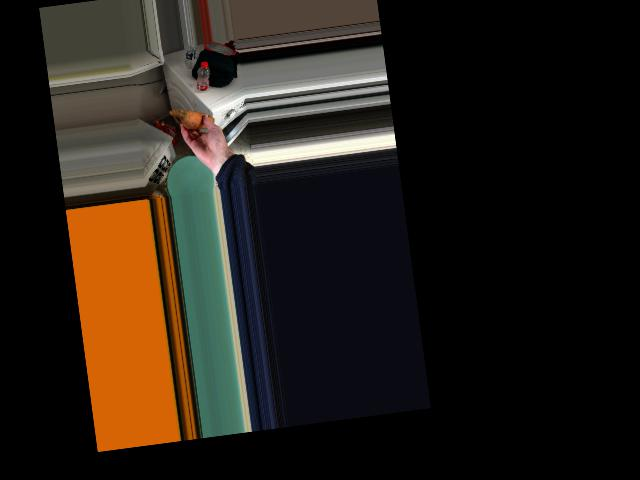sweet_potato: (181, 108, 210, 130)
